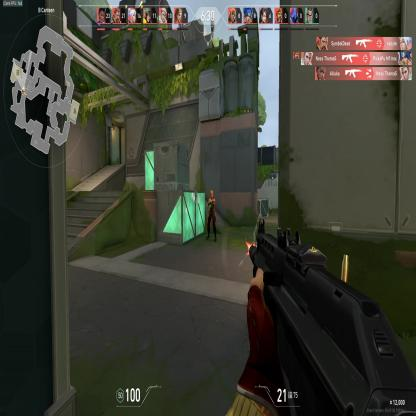enemy: (205, 189, 217, 243)
